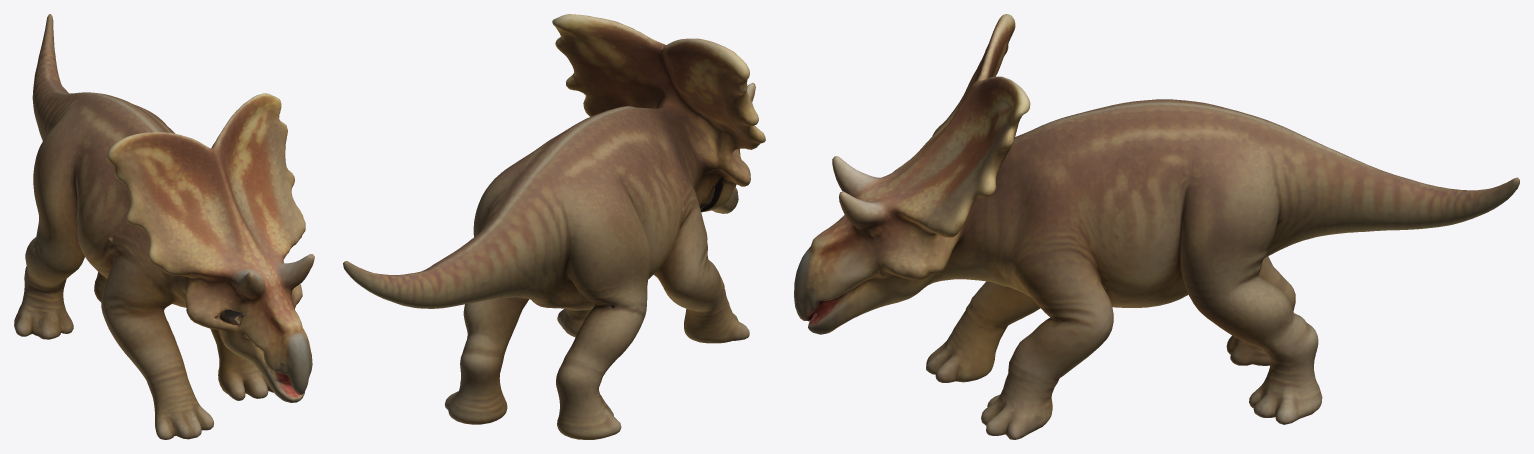
The picture shows the model from 3 angles, left to right: view 1: azimuth 30°, elevation 25°; view 2: azimuth 150°, elevation 25°; view 3: azimuth 270°, elevation 25°; orthographic projection. The views are drawn at different scales.
Parts seen in each view (by area): view 1: world; view 2: world; view 3: world.
Part boxes in pixels (bbox=[...]): world: bbox=[14, 14, 314, 439]; world: bbox=[343, 14, 765, 439]; world: bbox=[794, 14, 1519, 439].
Bounding box in the file's own units: 1.61 × 2.51 × 4.8.
1 material, 1 textured.
